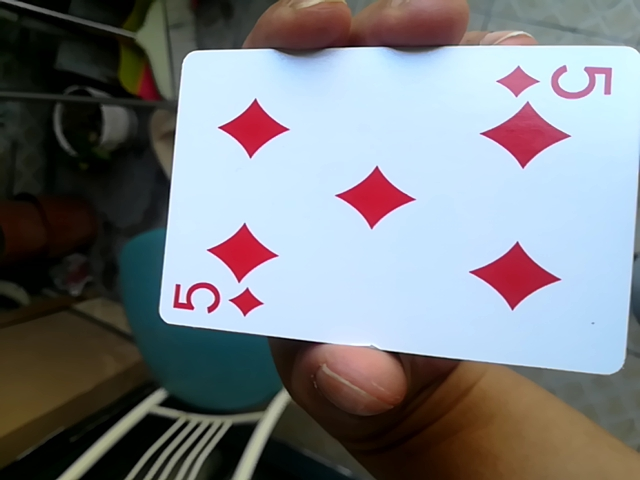fk 5: (154, 40, 640, 367)
